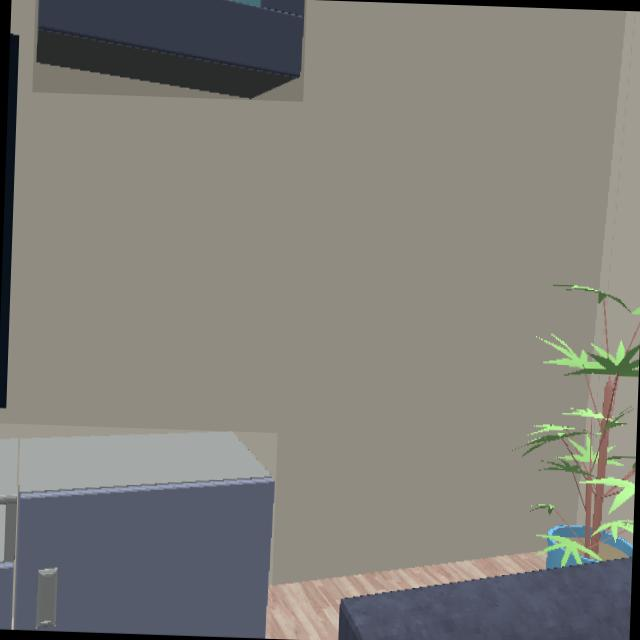cabinet: (0, 431, 275, 637), (34, 0, 305, 100)
